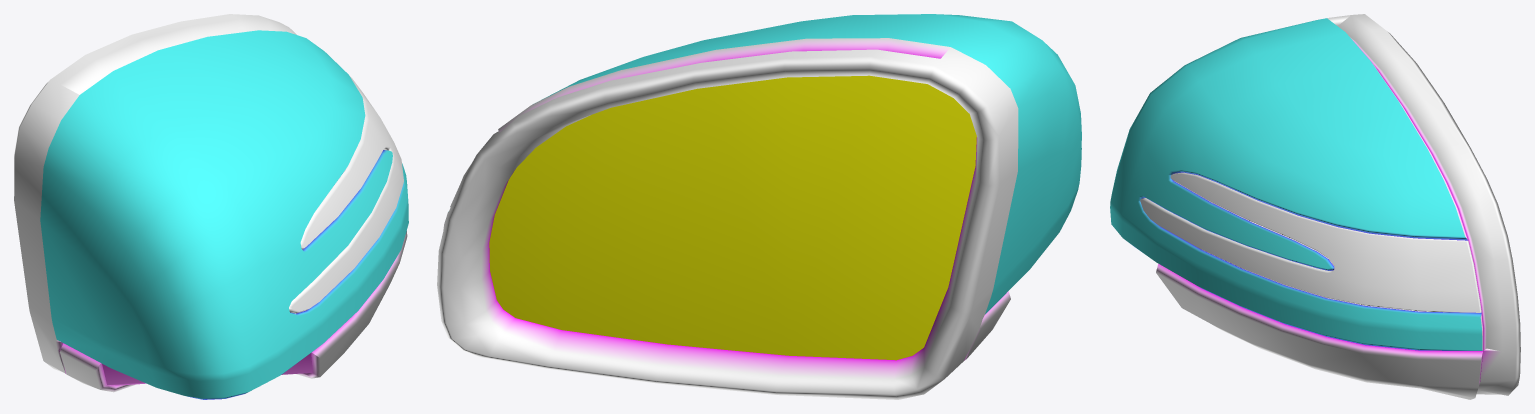
Rendered from Car_MercedesBenz_AMGGT_2015_MirrorL_SetGTR.fbx.
The picture shows the model from 3 angles, left to right: view 1: azimuth 30°, elevation 25°; view 2: azimuth 150°, elevation 25°; view 3: azimuth 270°, elevation 25°; orthographic projection. The views are drawn at different scales.
Visible parts, largest first — view 1: MirrorL 6; view 2: MirrorL 6; view 3: MirrorL 6.
Part boxes in pixels (box(x1,y1,x2,y2)): MirrorL 6: box(14, 14, 408, 399); MirrorL 6: box(437, 14, 1081, 399); MirrorL 6: box(1110, 14, 1520, 399).
Bounding box in the file's own units: 0.1899 × 0.1331 × 0.1866.
